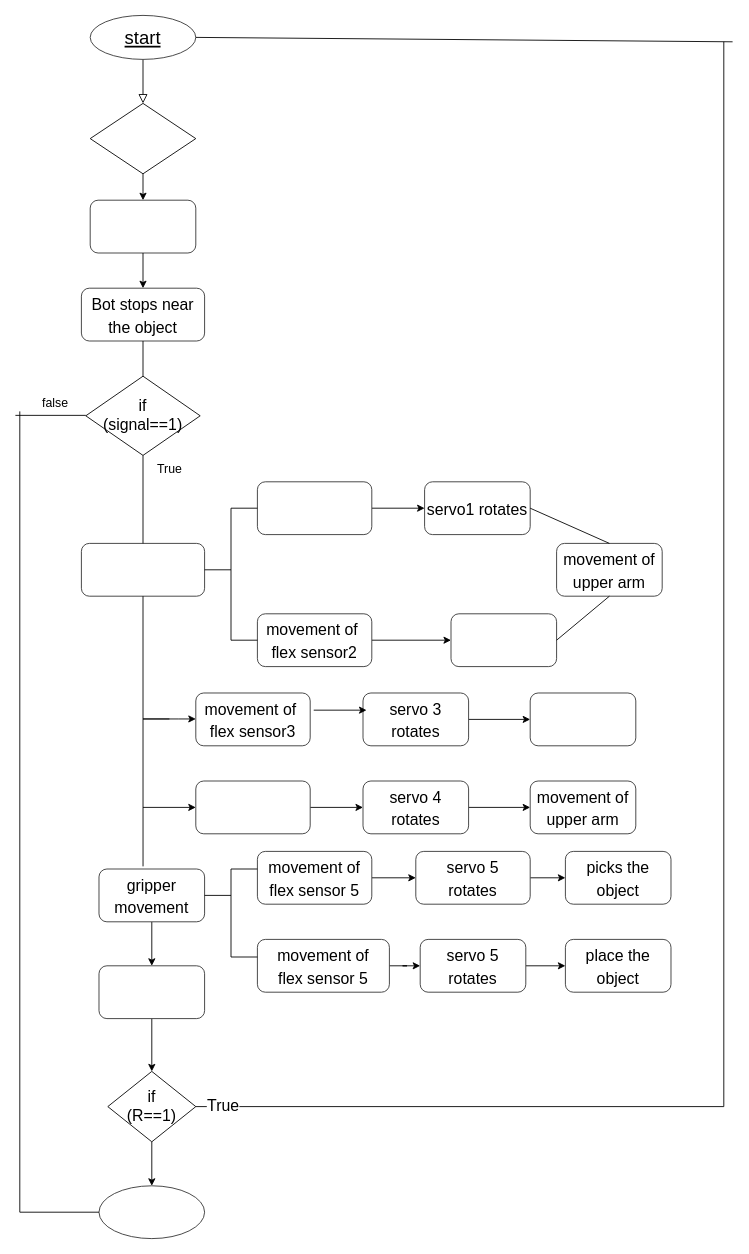
Image size: 749x1254. Some labels were removed from this diagram. Each missing label, with the box of its shape:
Gesture detection: (81, 543, 205, 596)
if(switch==1): (89, 103, 196, 174)
movement of flex sensor1: (257, 481, 372, 535)
movement of flex sensor4: (195, 780, 310, 834)
movement of middle arm: (529, 692, 636, 746)
movement of the bot: (89, 199, 196, 253)
repeat: (98, 965, 205, 1019)
servo2 rotates: (450, 613, 557, 667)
stop: (98, 1185, 205, 1239)
